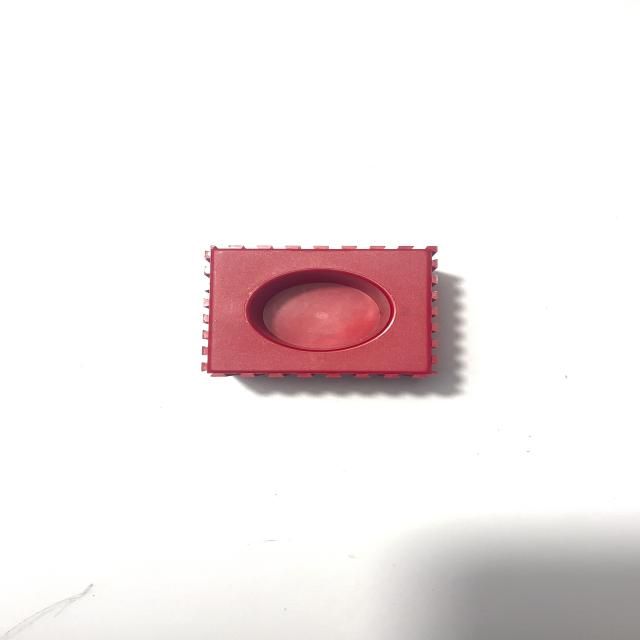Empty_Slot: (201, 246, 436, 378)
